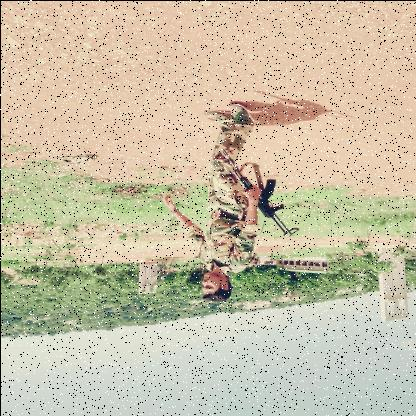rifle: (218, 147, 300, 237)
